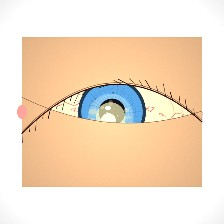corneal_ulcer: (85, 98, 136, 139)
